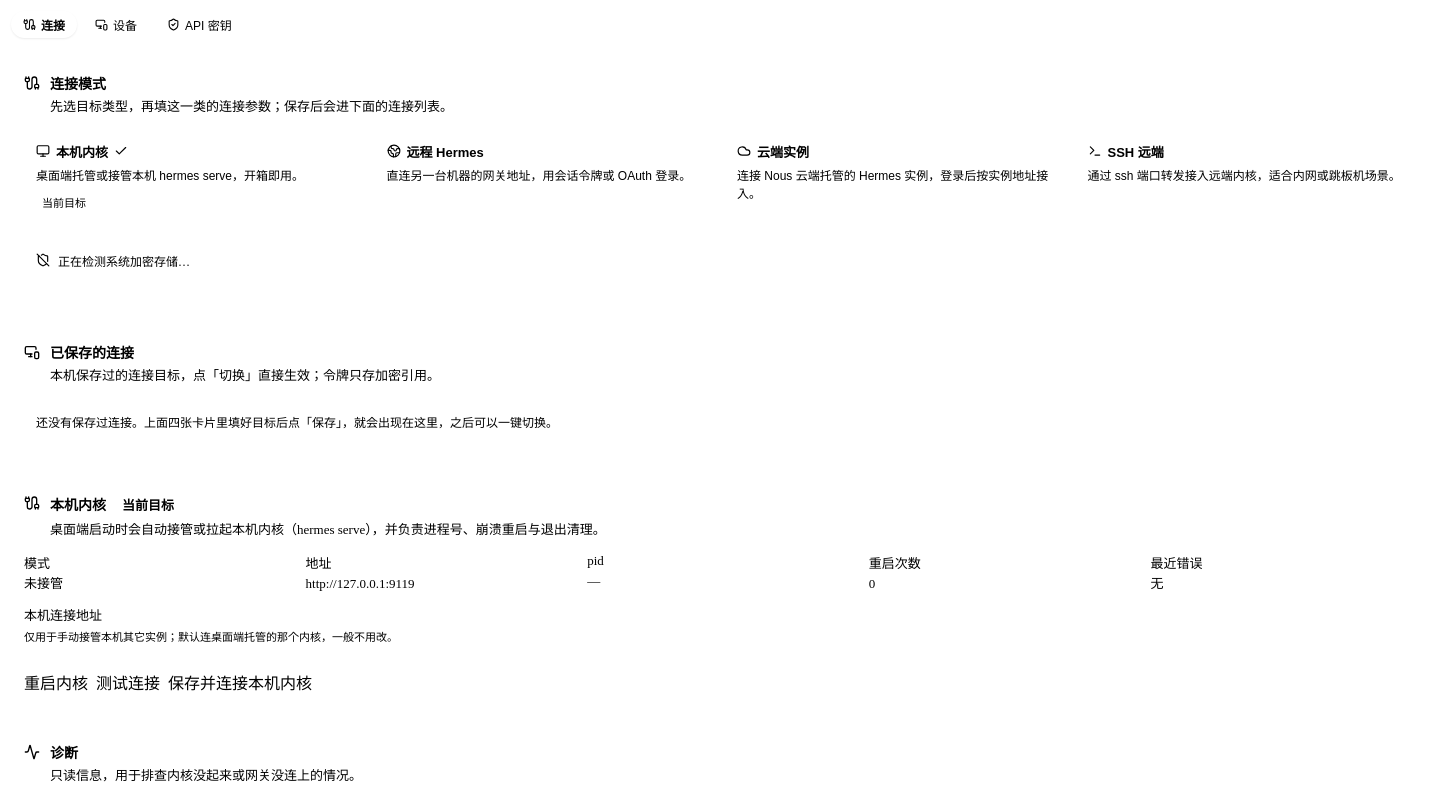
Test: ConnectionSection four modes › renders the device subpage with the kernel facts and the missing-endpoint note
This screenshot has width=1440, height=799.
Click the tab with test id "panel-tab-devices": (116, 24) [83,11,149,38]
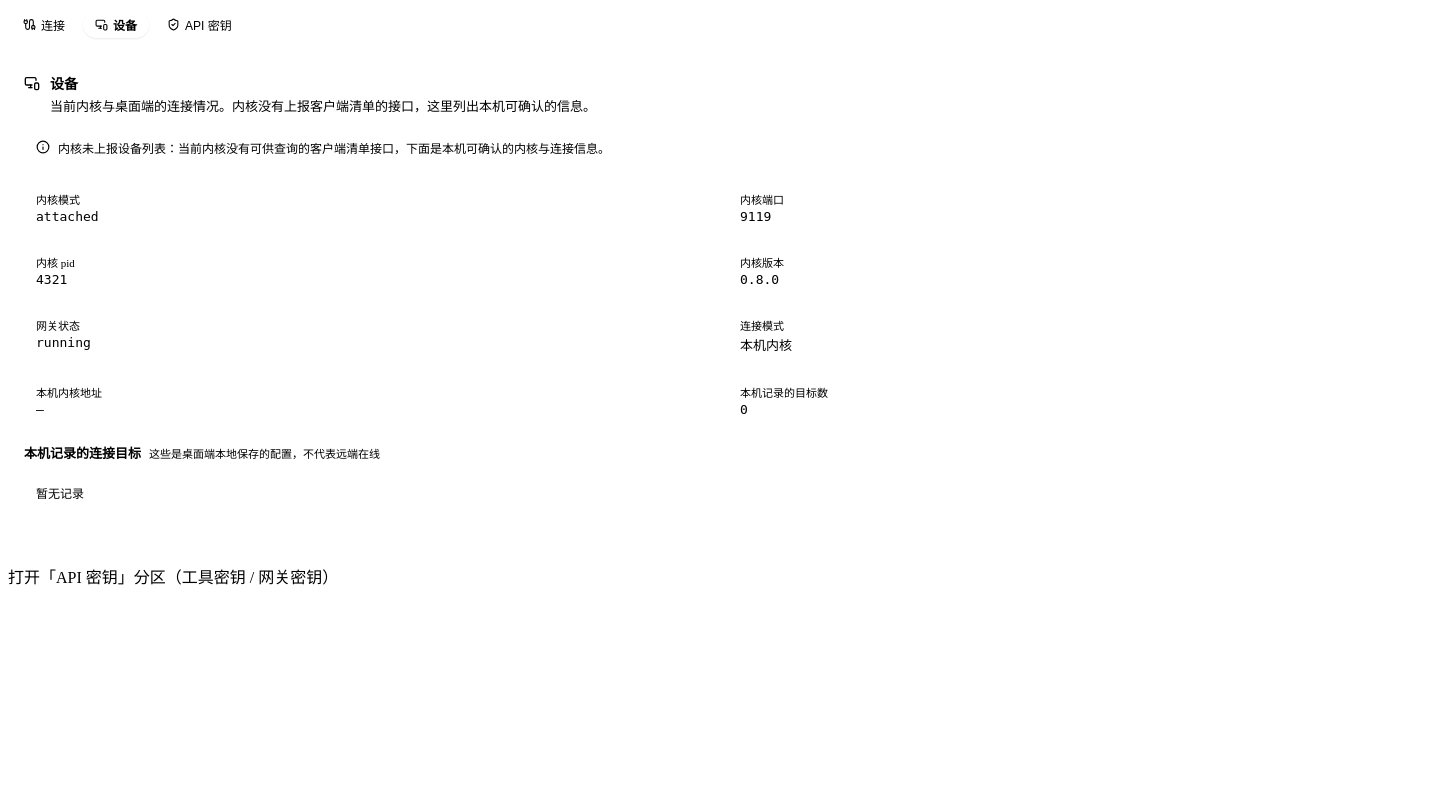
expect the text with test id "device-active-mode" reads "本机内核": met, box [740,338,792,353]
expect the element with test id "device-panel" is shown: met, box [24,140,828,501]
expect the element with test id "device-panel-notice" shows "内核未上报设备列表": met, box [58,142,610,156]
